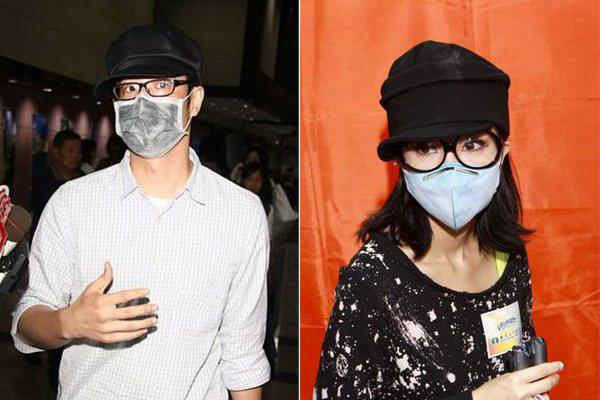NONE: (61, 141, 84, 171), (248, 174, 262, 195)
OK: (404, 125, 508, 229), (117, 72, 200, 155)
